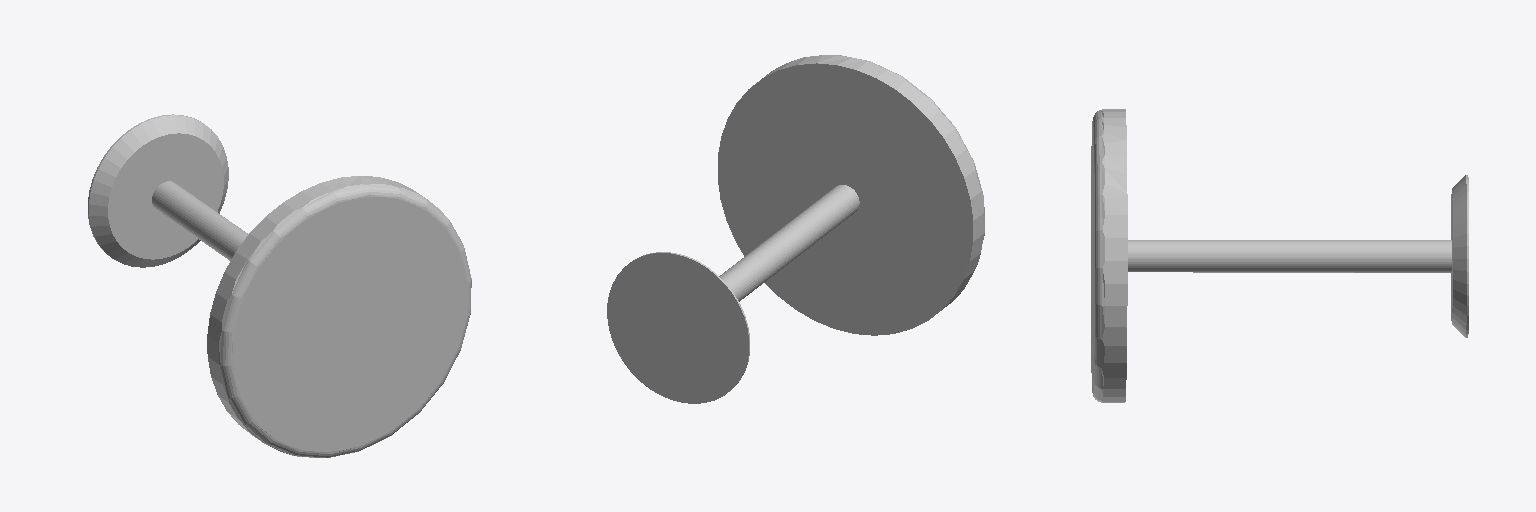
Rendered from stool.obj.
3 renders of one model, left to right at view 1: azimuth 30°, elevation 25°; view 2: azimuth 150°, elevation 25°; view 3: azimuth 270°, elevation 25°, orthographic.
Visible parts, largest first — view 1: object 1; view 2: object 1; view 3: object 1.
Boxes of the visible parts, x1=… form: object 1: x1=88, y1=114, x2=471, y2=457; object 1: x1=607, y1=55, x2=984, y2=403; object 1: x1=1091, y1=109, x2=1468, y2=402.
Bounding box in the file's own units: 0.4566 × 0.4569 × 0.5895.